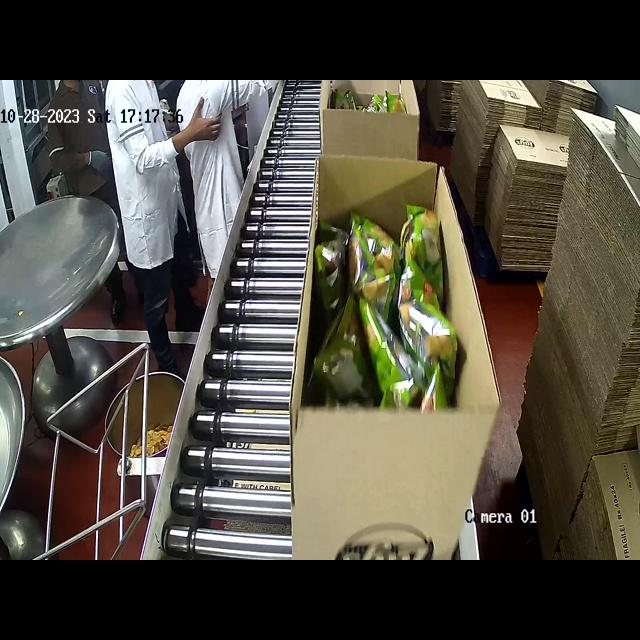yogurt: (318, 208, 454, 412), (337, 86, 408, 112)
